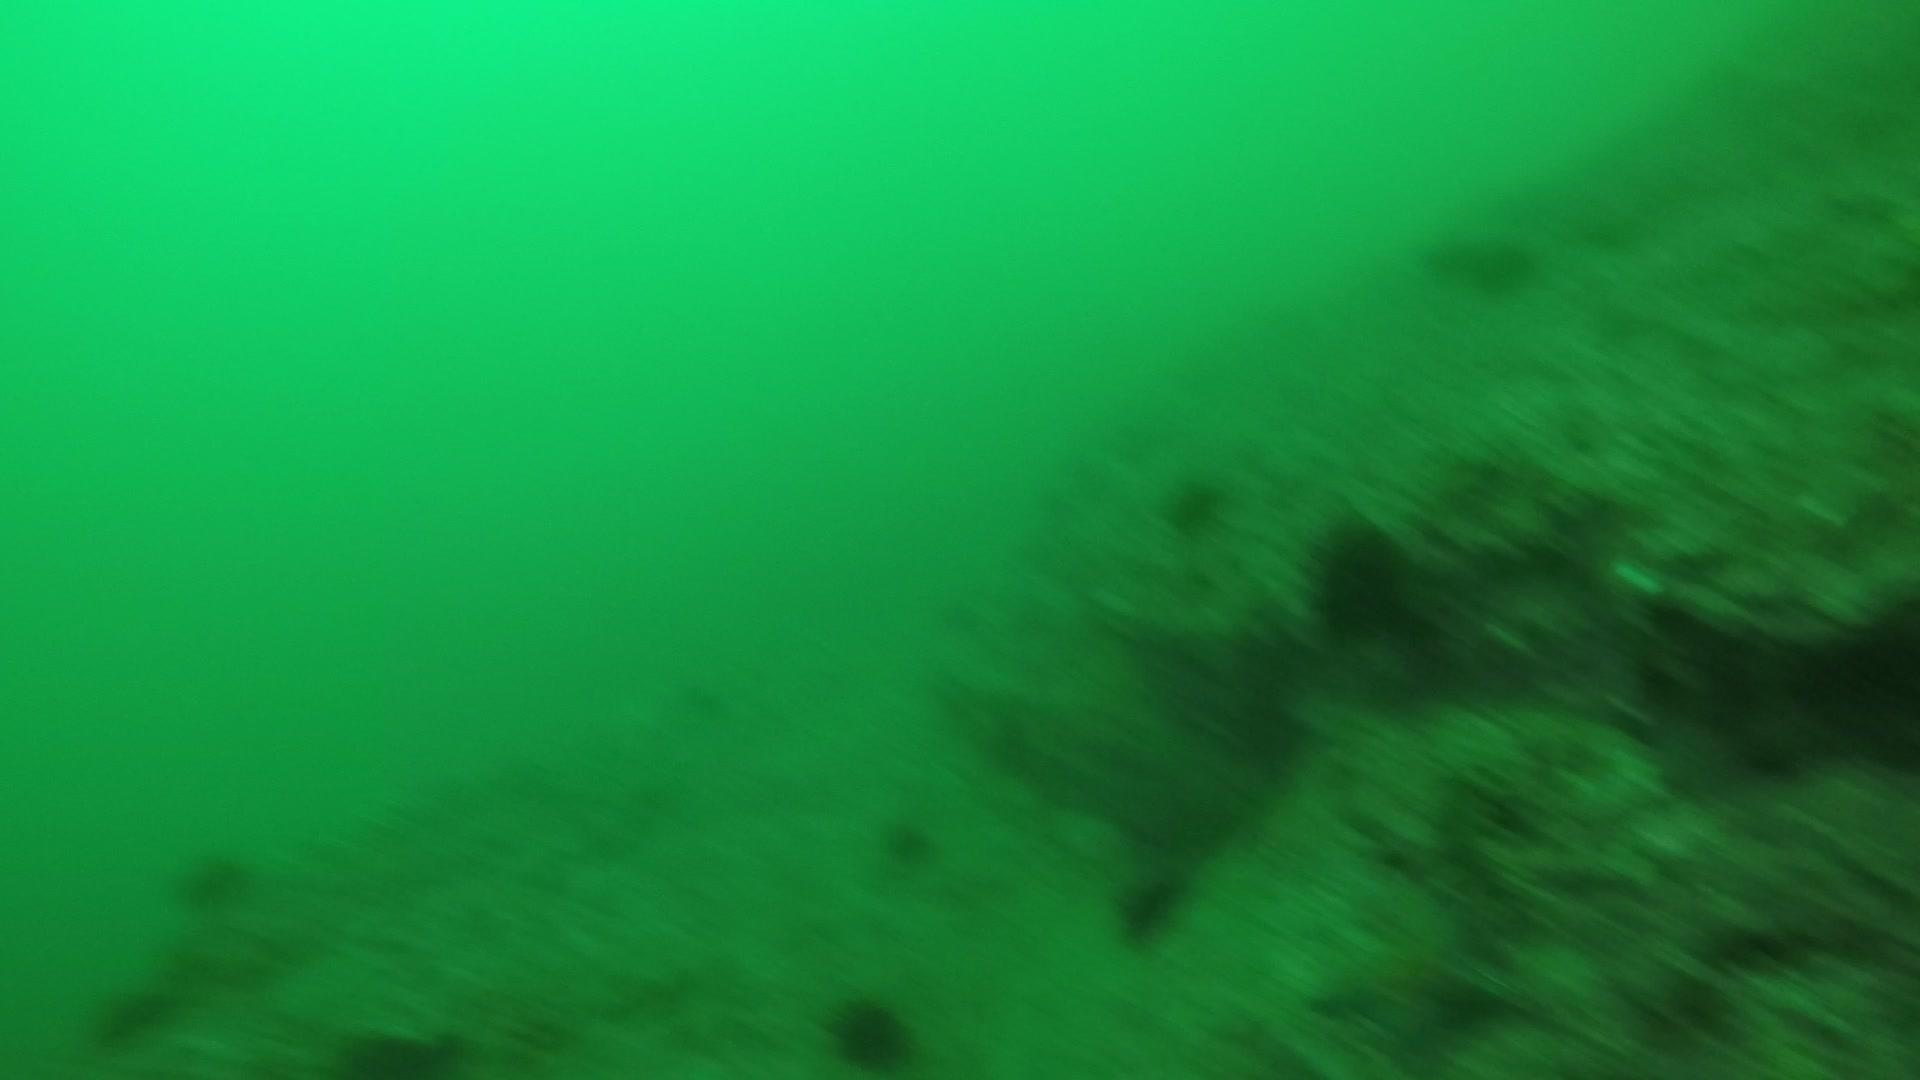echinus: (1302, 516, 1420, 642), (1423, 220, 1542, 299), (822, 989, 919, 1071), (1106, 861, 1196, 947), (169, 843, 258, 913), (1156, 467, 1233, 538), (873, 810, 943, 872)
starfish: (1303, 895, 1519, 1054)
